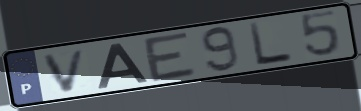5: (298, 8, 343, 60)
9: (201, 23, 243, 76)
A: (95, 41, 151, 90)
E: (140, 29, 200, 85)
L: (247, 20, 296, 68)
V: (41, 46, 89, 94)
